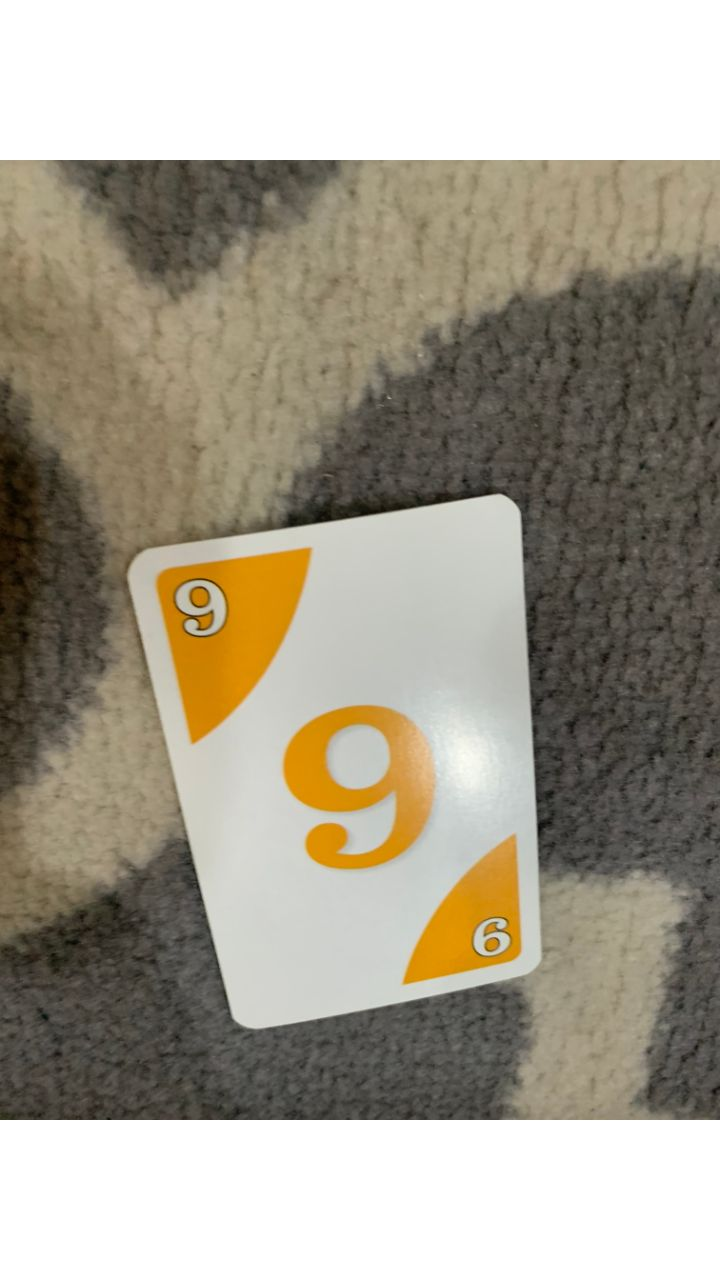nine: (120, 490, 544, 1032)
